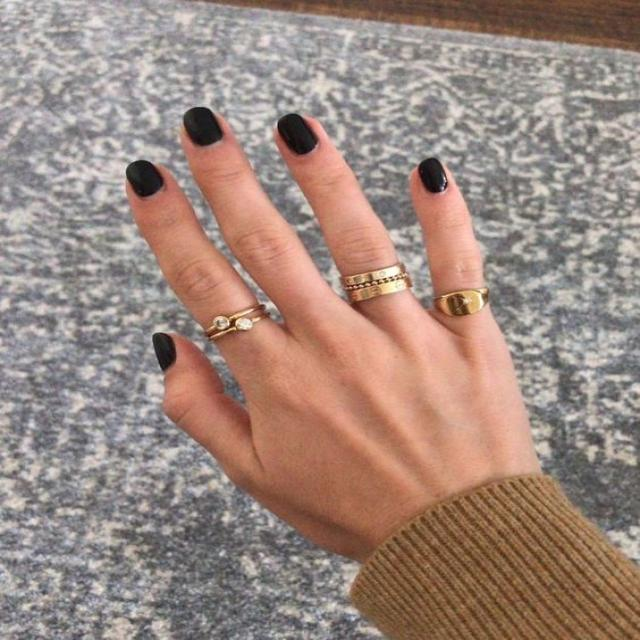Fingernail: (278, 112, 318, 155), (183, 108, 223, 146), (126, 160, 162, 199), (418, 158, 449, 193), (153, 331, 176, 370)
